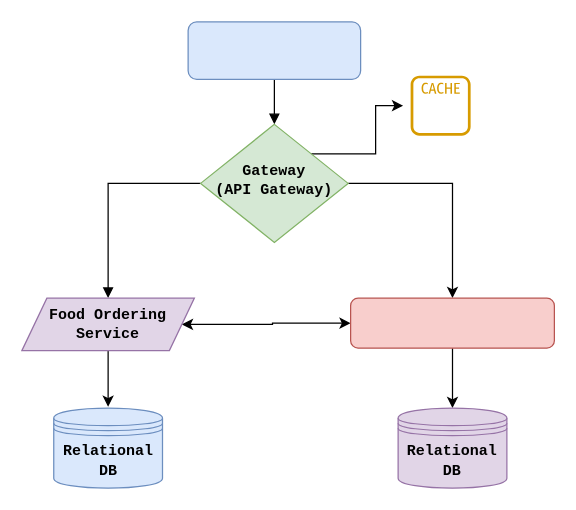
The diagram is 576 pixels wide and 510 high, and some of its shapes have lost their labels. The box of each missing label's shape, as (x1, y1, x2, y2) in pixels:
Restaurant Management Service: (349, 297, 554, 348)
User Interface: (187, 21, 361, 79)
